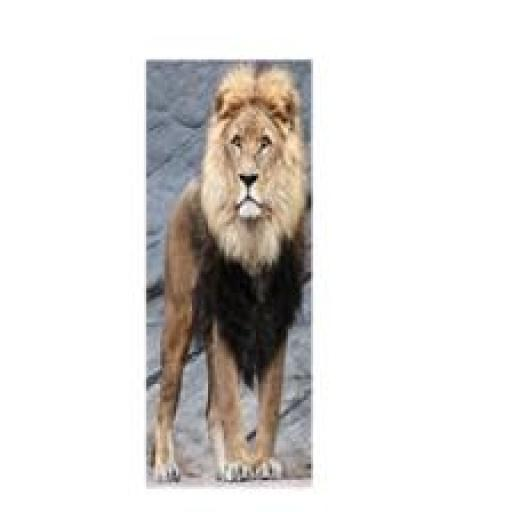lion: (126, 50, 332, 511)
